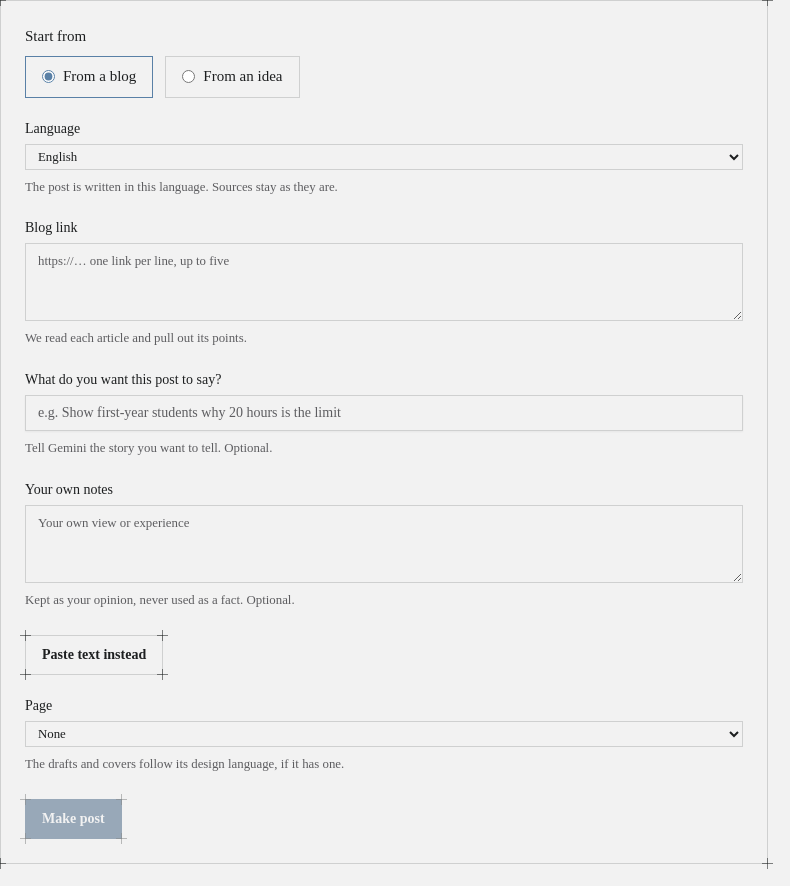
Test: "Start from an idea" (BR12, BR13) › hides the blog link and "Make post", keeping language, framing, notes and page (criterion 4)
This screenshot has width=790, height=886.
What coordinates should you click on to do the following:
click the radio button labelled "From an idea"
I would click on:
 (189, 77)
Its box is [182,70,195,83].
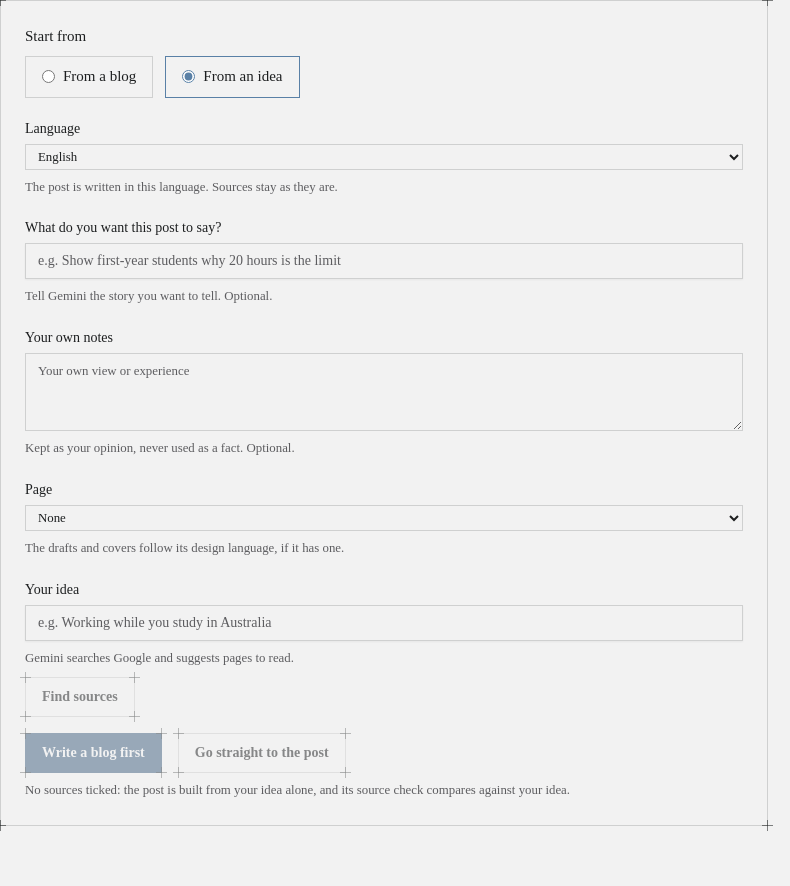
Check: the dropdown labelled "Language" is shown, box [25,144,743,170]
Check: the label labelled "Blog link" is gone
Check: no buttons "Make post" are shown
